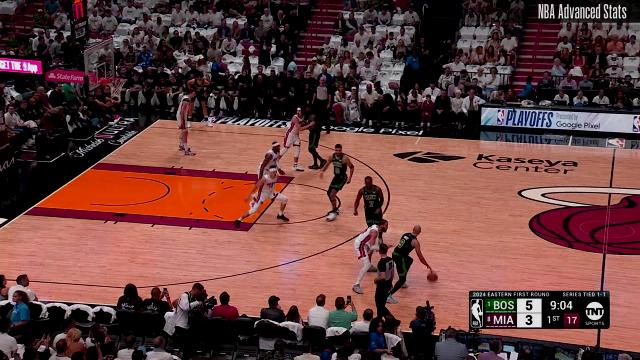3_dx: (144, 122, 156, 134)
b_dx: (153, 115, 163, 125)
free_adx: (287, 172, 301, 182)
free_asx: (238, 222, 254, 240)
free_bdx: (92, 156, 104, 170)
free_bsx: (17, 209, 27, 219)
half_dx: (608, 143, 622, 155)
half_sx: (587, 338, 609, 354)
mid_dx: (415, 132, 425, 142)
referee: (375, 243, 401, 328), (311, 77, 333, 134)
team: (388, 226, 432, 302), (321, 144, 355, 220), (354, 177, 384, 249), (302, 107, 326, 170), (187, 77, 211, 129)
team1: (233, 166, 291, 230), (352, 218, 393, 294), (275, 107, 311, 173), (254, 140, 284, 200), (175, 88, 197, 154)
timer: (548, 298, 576, 312)
